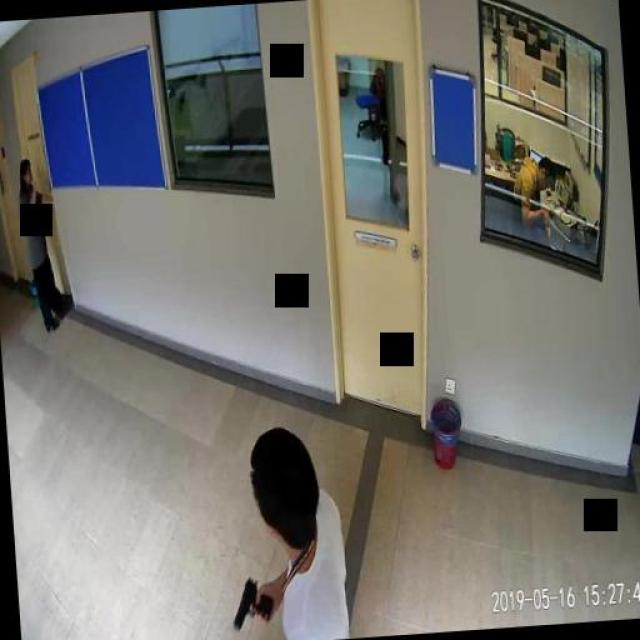gun: (228, 576, 272, 629)
